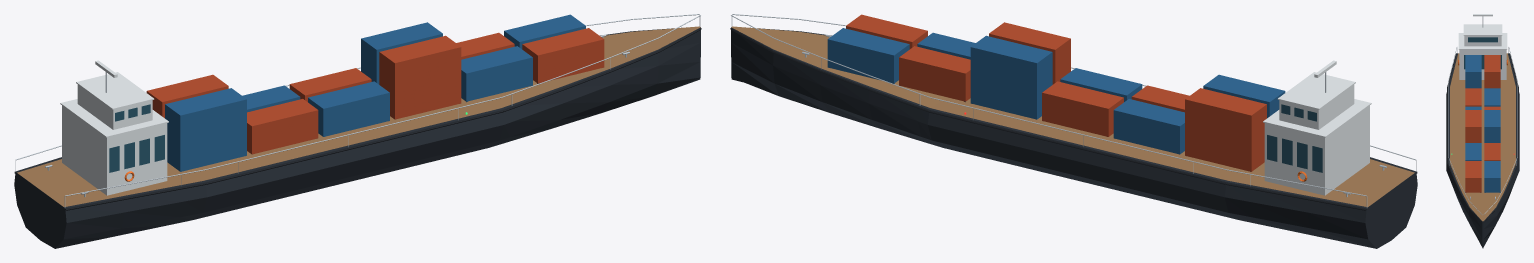
Rendered from barge_lod1.glb.
3 renders of one model, left to right at view 1: azimuth 30°, elevation 25°; view 2: azimuth 150°, elevation 25°; view 3: azimuth 270°, elevation 25°, orthographic. The views are drawn at different scales.
Parts seen in each view (by area): view 1: body; view 2: body; view 3: body.
Boxes of the visible parts, bbox=[...] form: body: bbox=[14, 14, 701, 248]; body: bbox=[730, 14, 1417, 248]; body: bbox=[1446, 14, 1519, 248].
Bounding box in the file's own units: 60.06 × 13.61 × 11.
